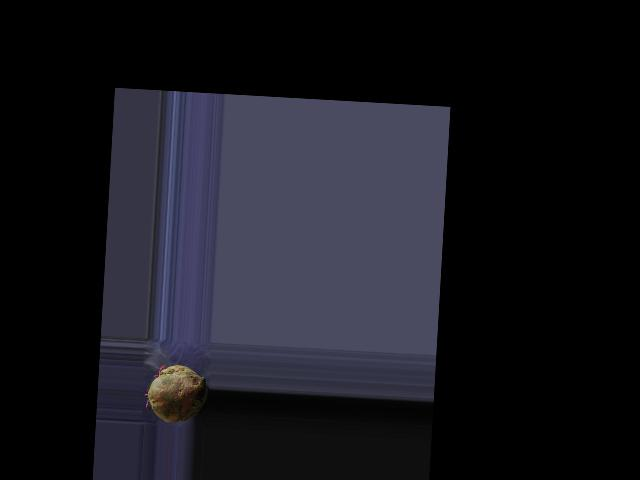beet: (144, 363, 209, 424)
